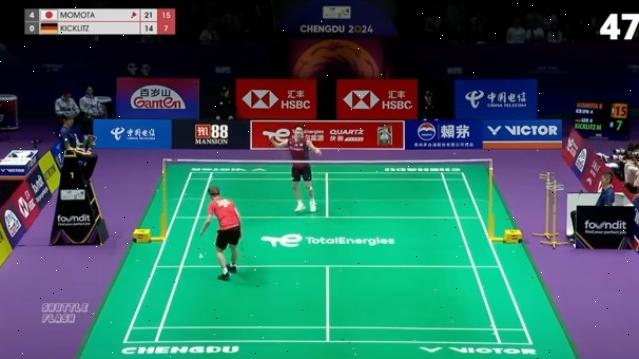Shuttlecock: (197, 252, 207, 260)
